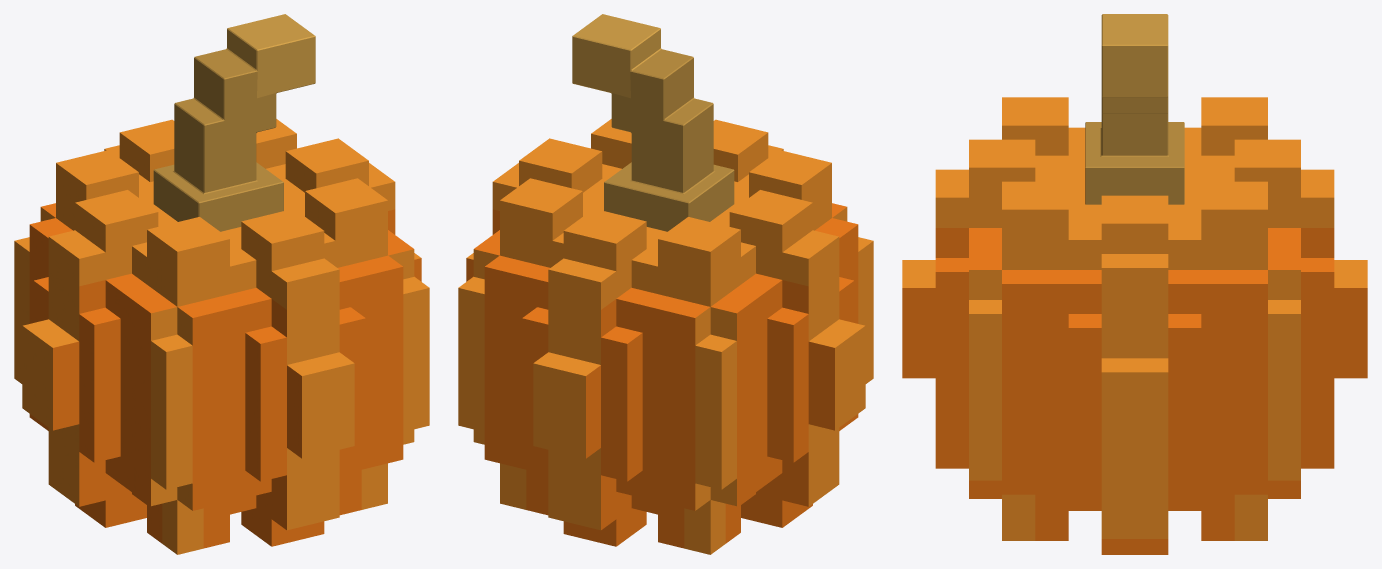
Rendered from SM_VMF_Crop_Pumpkin_Harvest.fbx.
3 renders of one model, left to right at view 1: azimuth 30°, elevation 25°; view 2: azimuth 150°, elevation 25°; view 3: azimuth 270°, elevation 25°, orthographic. The views are drawn at different scales.
Visible parts, largest first — view 1: SM_VMF_Crop_Pumpkin_Harvest_HarvestFruit, SM_VMF_Crop_Pumpkin_Harvest_HarvestStem; view 2: SM_VMF_Crop_Pumpkin_Harvest_HarvestFruit, SM_VMF_Crop_Pumpkin_Harvest_HarvestStem; view 3: SM_VMF_Crop_Pumpkin_Harvest_HarvestFruit, SM_VMF_Crop_Pumpkin_Harvest_HarvestStem.
Part boxes in pixels (x1=…): SM_VMF_Crop_Pumpkin_Harvest_HarvestFruit: x1=14, y1=119, x2=429, y2=554; SM_VMF_Crop_Pumpkin_Harvest_HarvestStem: x1=153, y1=14, x2=315, y2=231; SM_VMF_Crop_Pumpkin_Harvest_HarvestFruit: x1=458, y1=119, x2=873, y2=554; SM_VMF_Crop_Pumpkin_Harvest_HarvestStem: x1=572, y1=14, x2=734, y2=231; SM_VMF_Crop_Pumpkin_Harvest_HarvestFruit: x1=902, y1=97, x2=1367, y2=554; SM_VMF_Crop_Pumpkin_Harvest_HarvestStem: x1=1085, y1=14, x2=1184, y2=204.
Bounding box in the file's own units: 56 × 64 × 56.
1 material, 1 textured.
